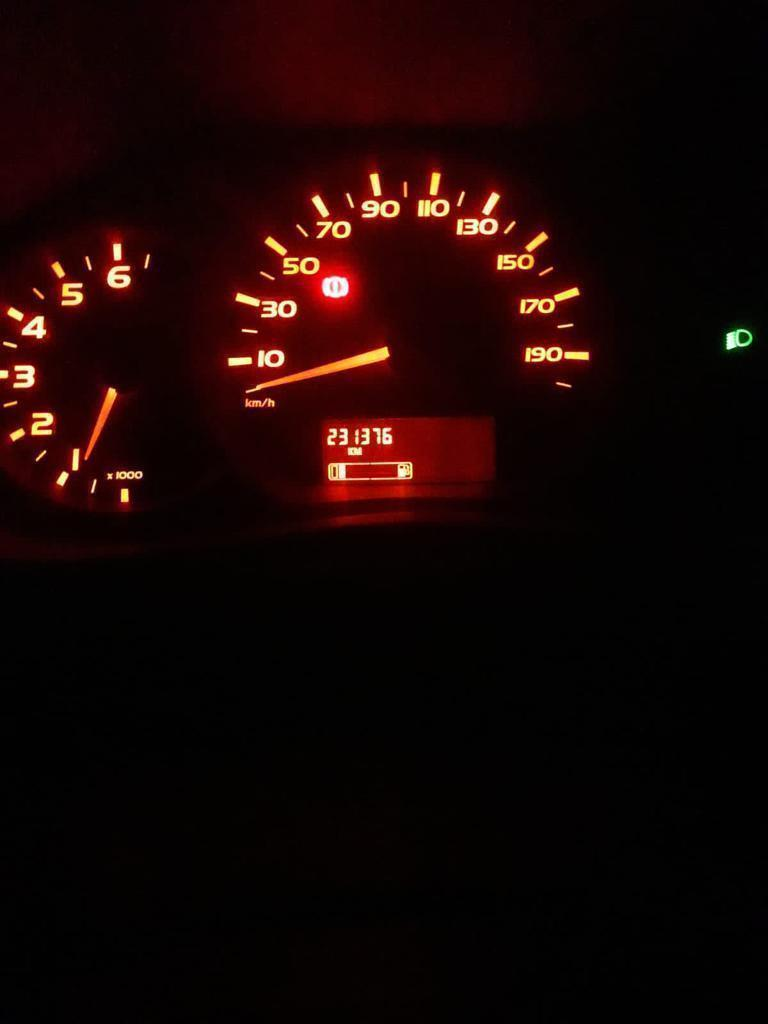1: (354, 427, 359, 445)
2: (327, 427, 337, 445)
3: (338, 427, 349, 445), (360, 427, 370, 445)
6: (382, 426, 392, 445)
7: (372, 426, 380, 444)
X: (353, 446, 363, 456), (347, 446, 353, 456)
odometer: (313, 412, 502, 488)
